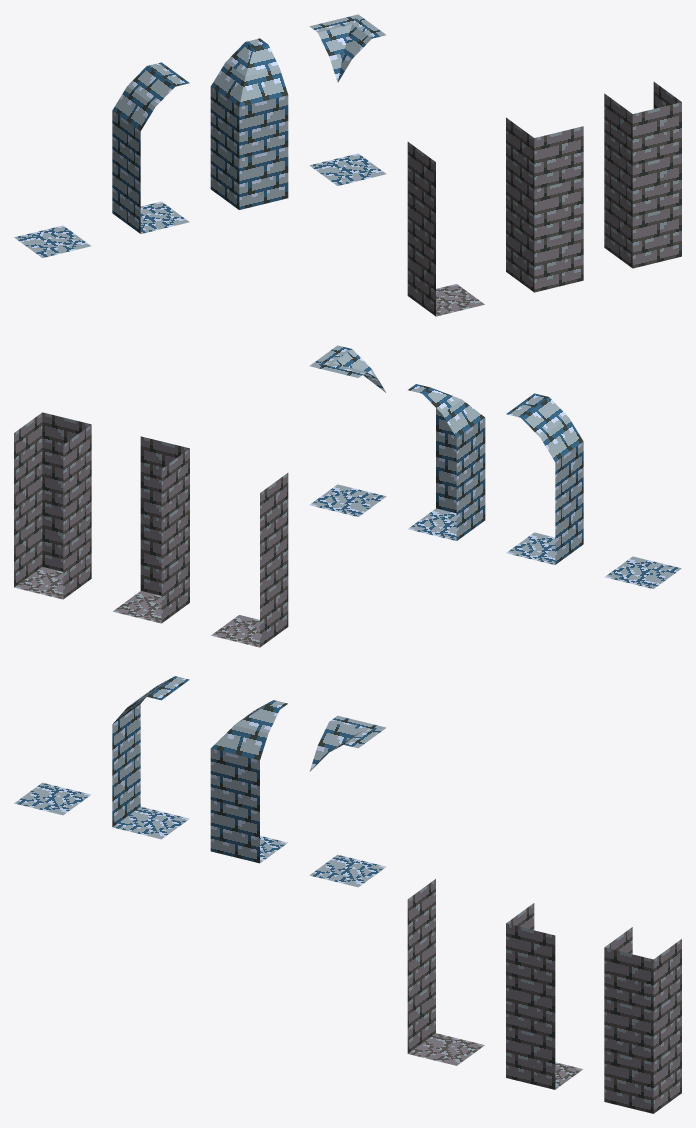
Rendered from walls-tiles.glb.
3 renders of one model, top to bottom at view 1: azimuth 30°, elevation 25°; view 2: azimuth 150°, elevation 25°; view 3: azimuth 330°, elevation 25°, orthographic.
Parts seen in each view (by area): view 1: Hole-uturn-col.001, Hole-corner-col.002, Wall-corner-col.001, Wall-side-col, Hole-side-col.001, Wall-outer-col.001, Ground-col; view 2: Hole-uturn-col.001, Hole-corner-col.002, Wall-corner-col.001, Wall-side-col, Hole-side-col.001, Wall-outer-col.001, Ground-col; view 3: Hole-uturn-col.001, Hole-corner-col.002, Wall-corner-col.001, Hole-side-col.001, Wall-side-col, Wall-outer-col.001, Ground-col.
Boxes of the visible parts, <box> form: Hole-uturn-col.001: <box>604,82,681,268</box>; Hole-corner-col.002: <box>506,117,583,292</box>; Wall-corner-col.001: <box>210,38,288,209</box>; Wall-side-col: <box>112,62,189,233</box>; Hole-side-col.001: <box>407,142,484,316</box>; Wall-outer-col.001: <box>309,14,386,185</box>; Ground-col: <box>14,225,91,257</box>; Hole-uturn-col.001: <box>14,412,91,599</box>; Hole-corner-col.002: <box>113,436,189,623</box>; Wall-corner-col.001: <box>408,384,485,540</box>; Wall-side-col: <box>506,393,583,564</box>; Hole-side-col.001: <box>211,473,288,647</box>; Wall-outer-col.001: <box>309,345,386,516</box>; Ground-col: <box>604,556,681,588</box>; Hole-uturn-col.001: <box>604,927,681,1113</box>; Hole-corner-col.002: <box>506,903,583,1089</box>; Wall-corner-col.001: <box>210,700,287,863</box>; Hole-side-col.001: <box>407,879,484,1065</box>; Wall-side-col: <box>112,676,189,839</box>; Wall-outer-col.001: <box>309,715,386,887</box>; Ground-col: <box>14,782,90,815</box>.
Bounding box in the file's own units: 13 × 5.7 × 1.
1 material, 1 textured.
